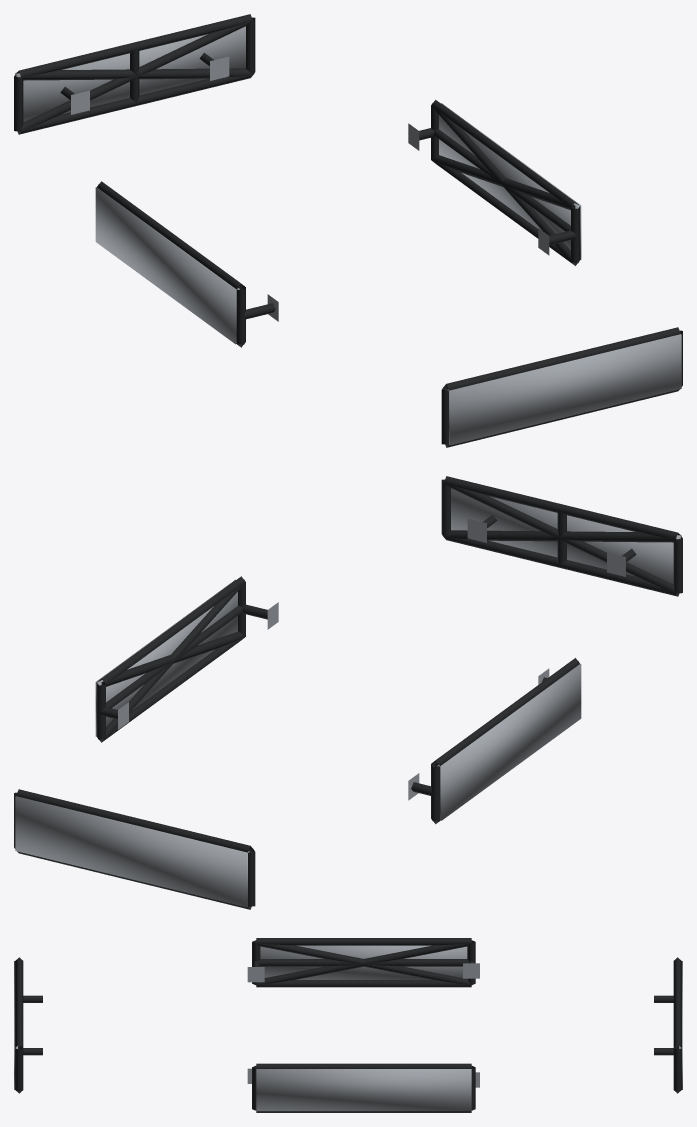
The model's file is kanaya_lume_protecao.glb.
The picture shows the model from 3 angles, top to bottom: view 1: azimuth 30°, elevation 25°; view 2: azimuth 150°, elevation 25°; view 3: azimuth 270°, elevation 25°; orthographic projection. The views are drawn at different scales.
Visible parts, largest first — view 1: Protection_front_Level3_Details, Protection_left_Level3_Details, Protection_rear_Level1_Details, Protection_rear_Level3_Details, Protection_right_Level1_Details, Protection_rear_Level2_Details, Protection_right_Level2_Details, Protection_right_Level3_Details, Protection_front_Level1_Details, Protection_left_Level1_Details; view 2: Protection_rear_Level3_Details, Protection_left_Level3_Details, Protection_front_Level1_Details, Protection_front_Level3_Details, Protection_right_Level1_Details, Protection_front_Level2_Details, Protection_right_Level2_Details, Protection_right_Level3_Details, Protection_rear_Level1_Details, Protection_left_Level1_Details; view 3: Protection_right_Level3_Details, Protection_left_Level2_Details, Protection_left_Level1_Details, Protection_left_Level3_Details, Protection_right_Level1_Details, Protection_rear_Level1_Details, Protection_front_Level1_Details.
Part boxes in pixels (x1,y1,x2,y2): Protection_front_Level3_Details: (447, 334, 681, 445); Protection_left_Level3_Details: (95, 187, 239, 344); Protection_rear_Level1_Details: (14, 14, 255, 134); Protection_rear_Level3_Details: (15, 26, 245, 122); Protection_right_Level1_Details: (408, 99, 580, 265); Protection_rear_Level2_Details: (16, 21, 252, 133); Protection_right_Level2_Details: (431, 106, 578, 265); Protection_right_Level3_Details: (439, 103, 581, 259); Protection_front_Level1_Details: (441, 327, 682, 447); Protection_left_Level1_Details: (97, 181, 278, 347); Protection_rear_Level3_Details: (15, 796, 249, 907); Protection_left_Level3_Details: (437, 664, 581, 820); Protection_front_Level1_Details: (441, 476, 682, 596); Protection_front_Level3_Details: (451, 488, 681, 584); Protection_right_Level1_Details: (96, 576, 278, 742); Protection_front_Level2_Details: (444, 483, 680, 595); Protection_right_Level2_Details: (97, 582, 245, 741); Protection_right_Level3_Details: (95, 579, 237, 736); Protection_rear_Level1_Details: (14, 789, 255, 909); Protection_left_Level1_Details: (408, 658, 579, 824); Protection_right_Level3_Details: (256, 1069, 471, 1111); Protection_left_Level2_Details: (255, 940, 471, 985); Protection_left_Level1_Details: (247, 938, 479, 987); Protection_left_Level3_Details: (260, 945, 467, 979); Protection_right_Level1_Details: (247, 1063, 479, 1112); Protection_rear_Level1_Details: (654, 957, 681, 1093); Protection_front_Level1_Details: (15, 957, 42, 1093).
Size of the model in its own units: 2 by 0.354 by 4.35.
1 material, 1 textured.
